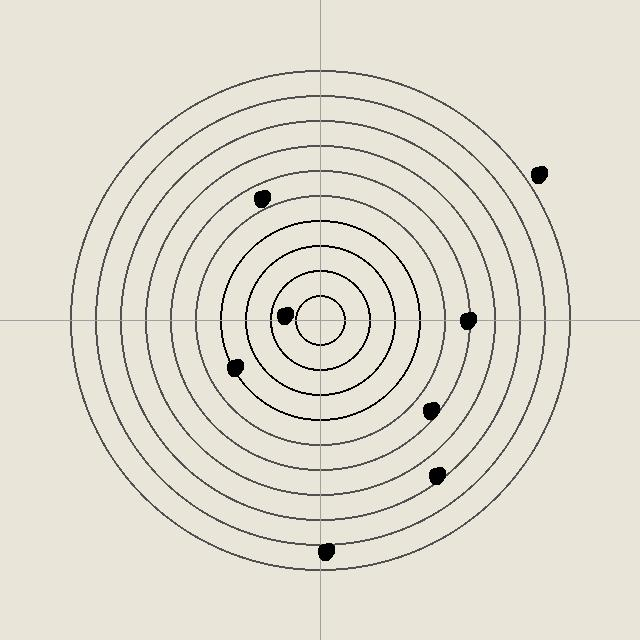random_scatter: (528, 164, 548, 184), (315, 541, 335, 561), (274, 305, 294, 325), (251, 188, 271, 208), (420, 400, 440, 420), (457, 310, 477, 330), (224, 357, 244, 377), (426, 465, 446, 485)
